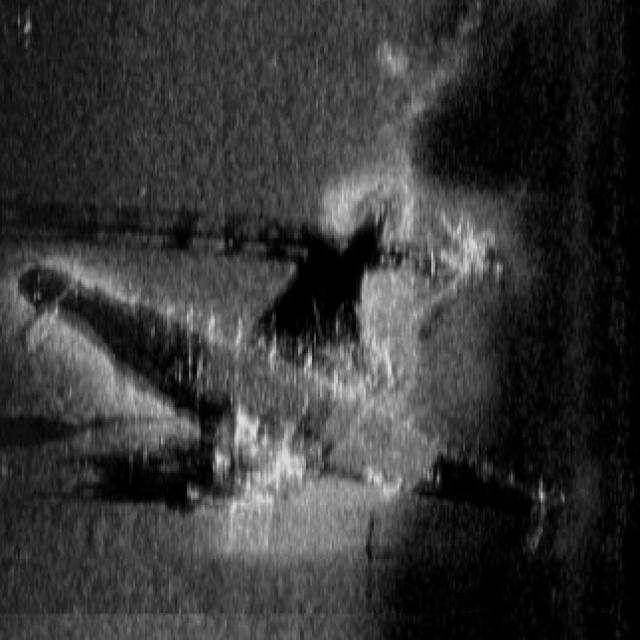plane: (12, 165, 568, 572)
